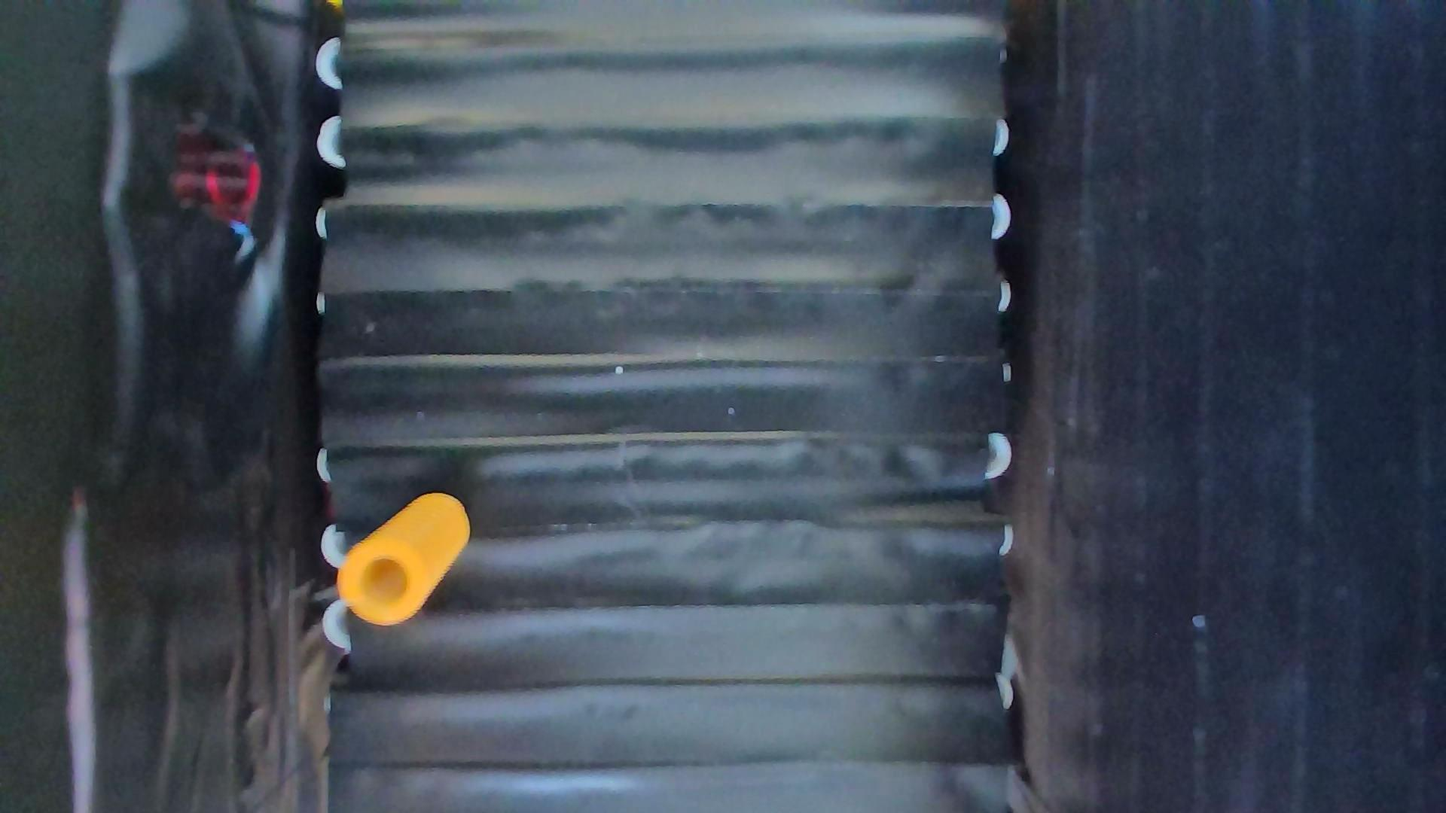spring: (338, 493, 471, 625)
